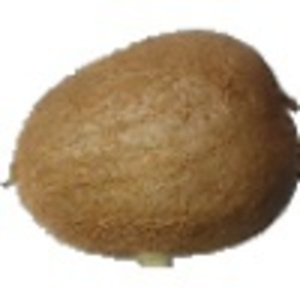kiwi: (2, 27, 300, 272)
